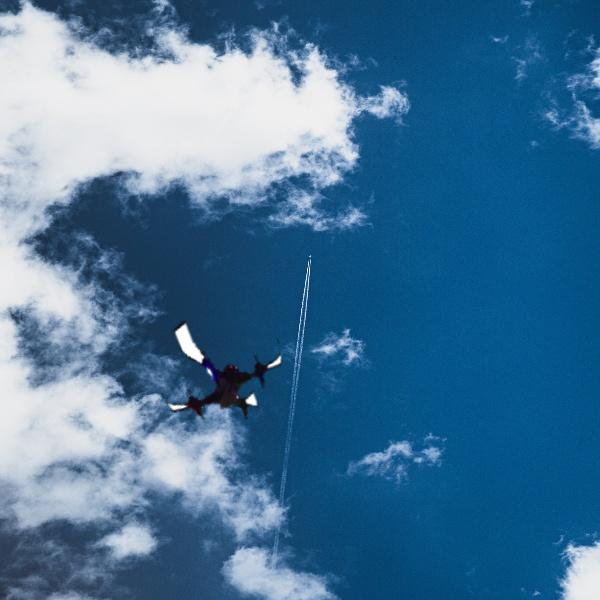drone: (155, 299, 291, 435)
